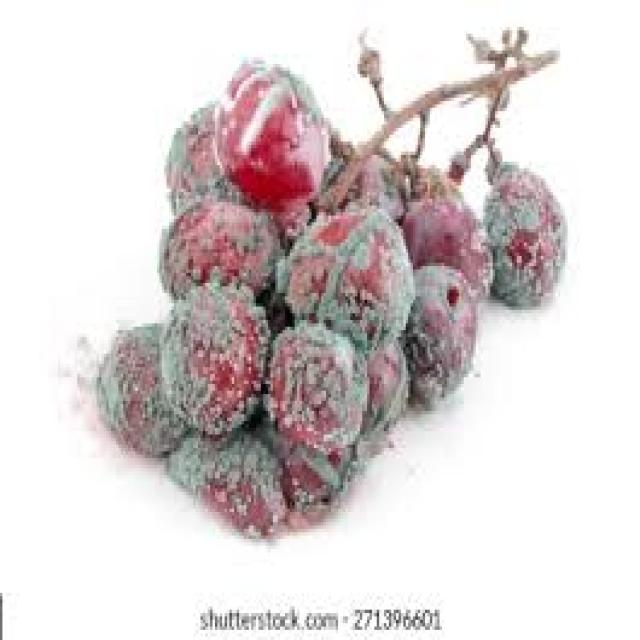Grapes: (217, 55, 335, 213), (150, 279, 261, 435), (406, 195, 475, 396), (266, 328, 366, 454), (98, 332, 189, 459), (297, 238, 407, 343), (490, 167, 562, 310), (164, 220, 280, 305)
